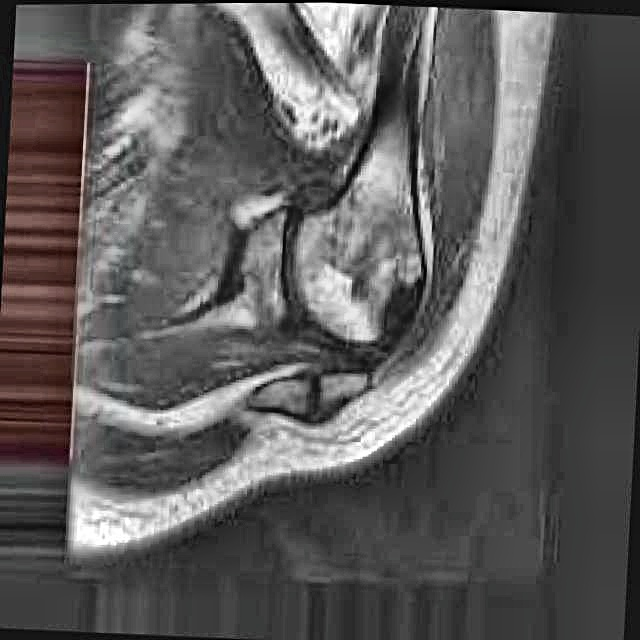Comminuted: (350, 271, 435, 372)
